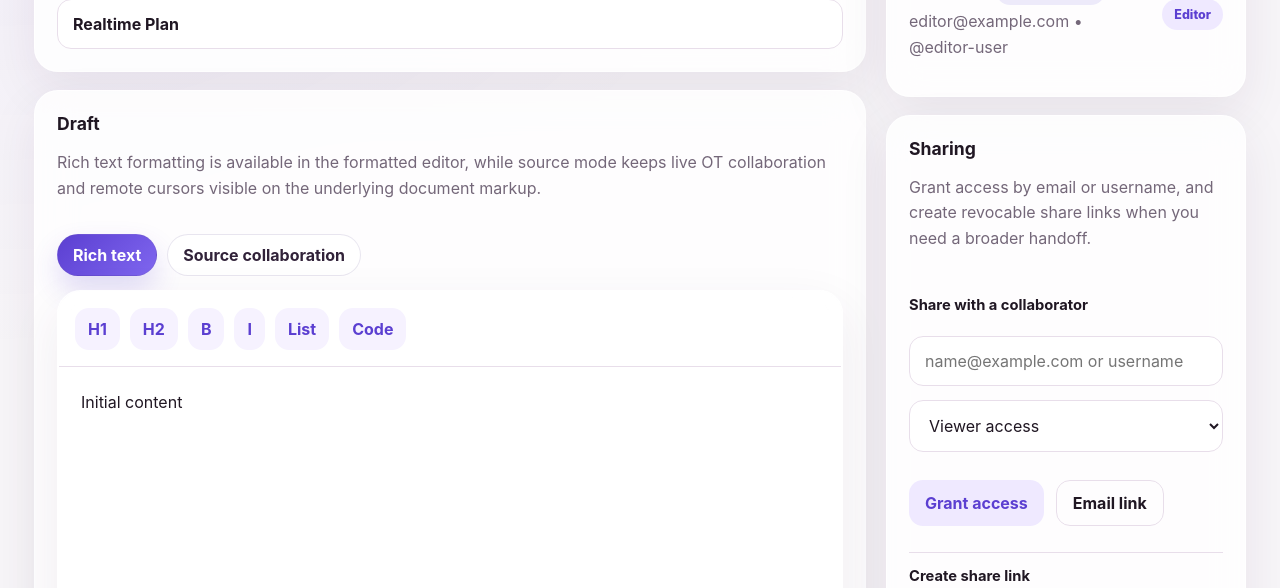
Test: grants document access to a collaborator by username
(page scrolled)
Expected: the text "Share with a collaborator" is shown, [909,296,1088,314]
Type "editor-user" into the field with placeholder "name@example.com or username".
click(1066, 361); type("editor-user")  # box [909,336,1223,386]
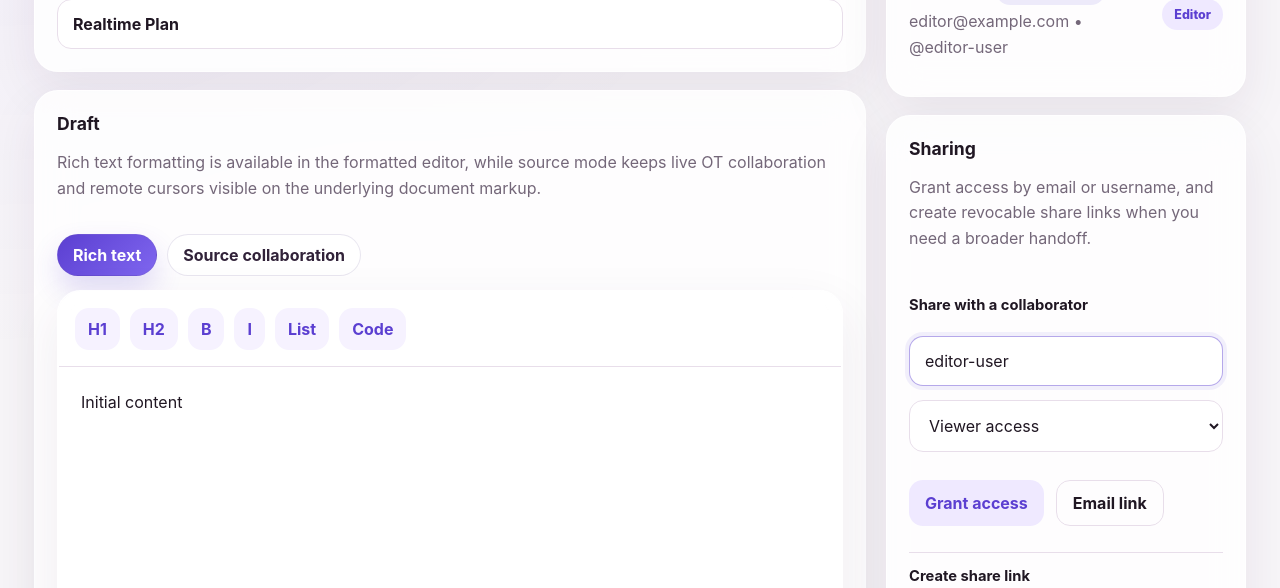
Select "Editor access" in the dropdown showing "Viewer access" below "Share with a collaborator" at [1066, 426], box [909,400,1223,452]
(page scrolled)
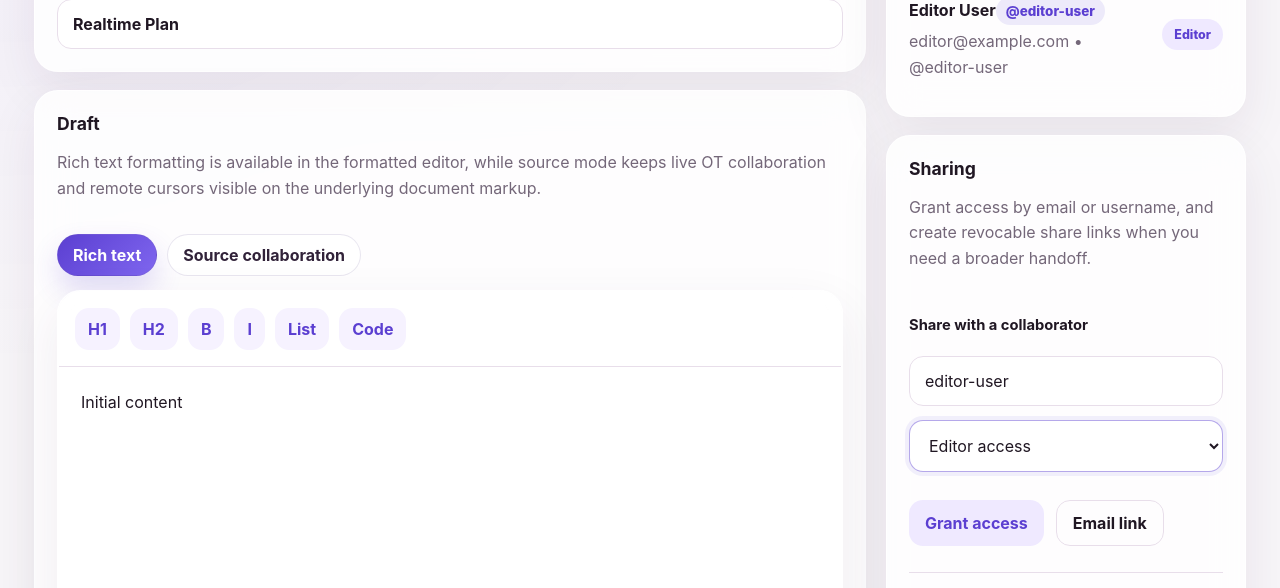
Click the button "Grant access".
click(976, 523)  # box [909,500,1044,546]
(page scrolled)
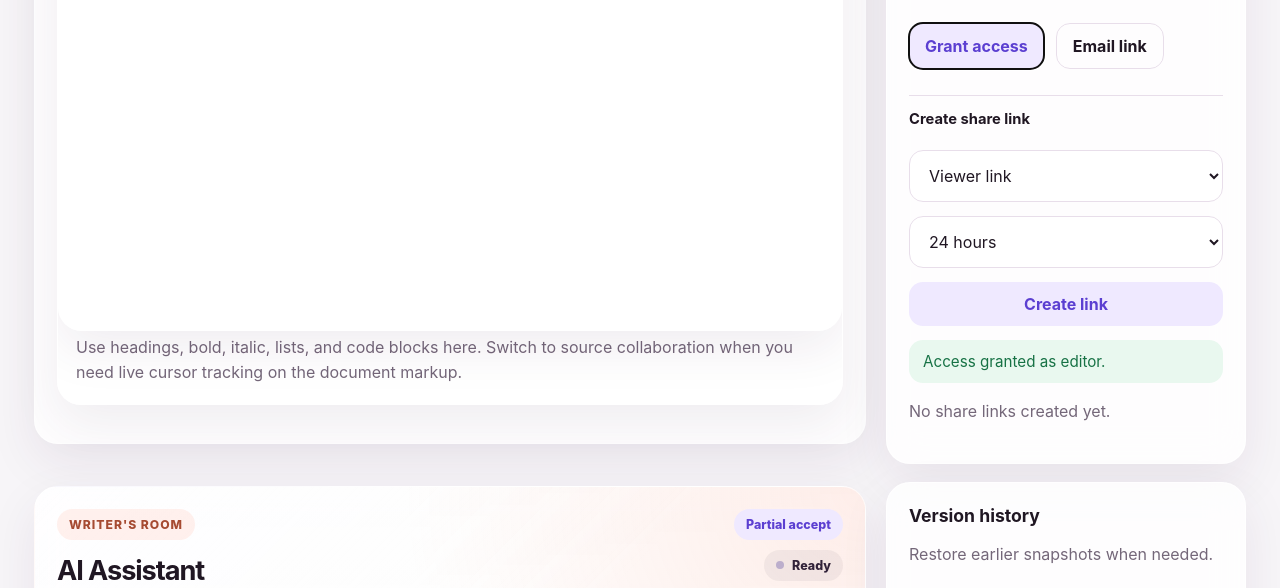
Result: the text "Access granted as editor." is shown at [909,340,1223,383]
